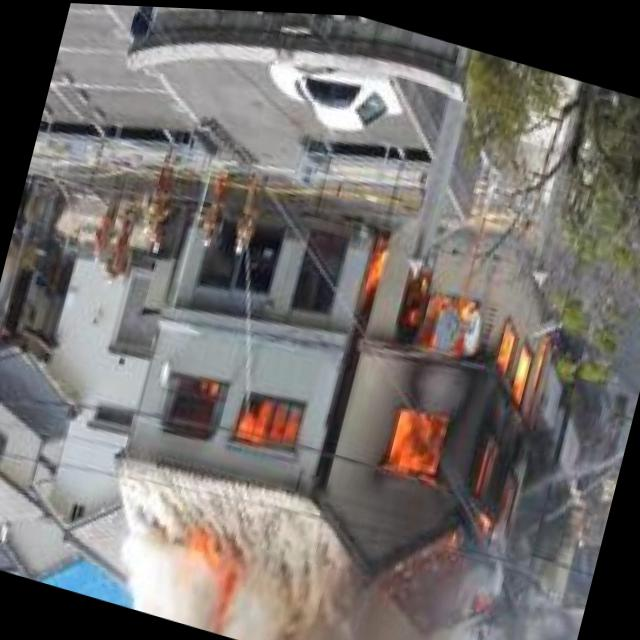Fire: (304, 209, 593, 552), (164, 360, 314, 455), (164, 517, 260, 623)
